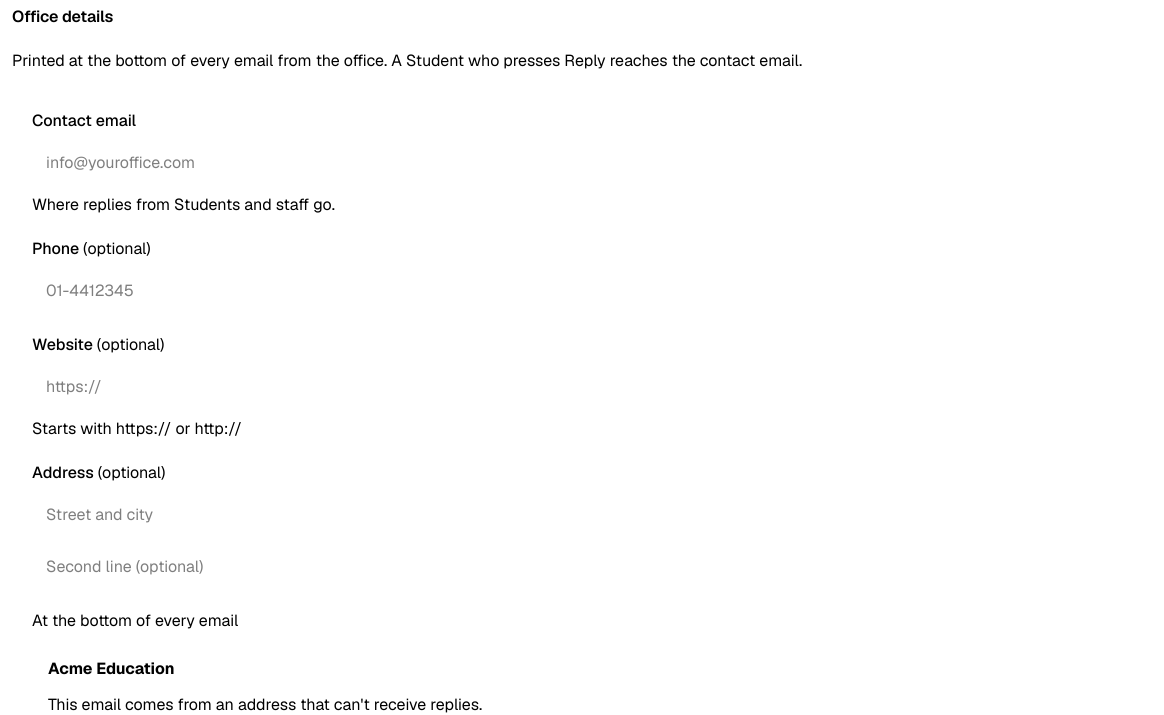
OfficeDetailsSettings › shows typed markup as words in the footer, never as markup
In the field labelled "Address (optional)": (588,515) [32,493,1144,537], type "<b>Tower</b>"
(page scrolled)
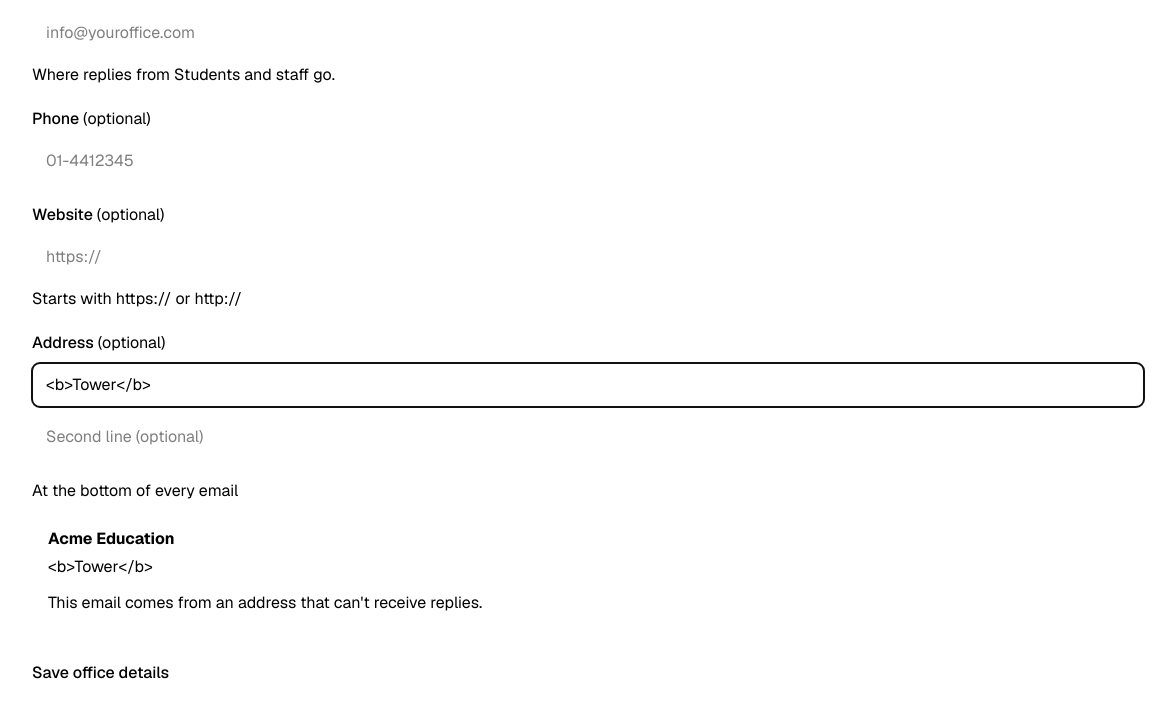
Result: the element with test id "footer-preview" shows "<b>Tower</b>" at [48,556,153,577]
